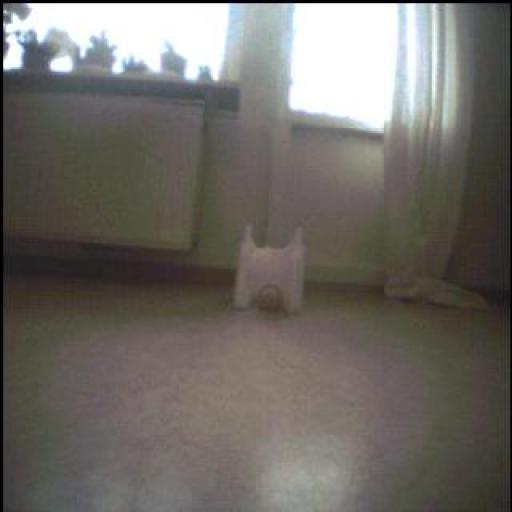Basket: (254, 283, 288, 317)
